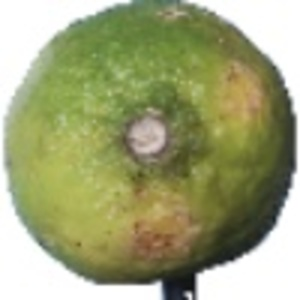limão: (4, 1, 298, 300)
